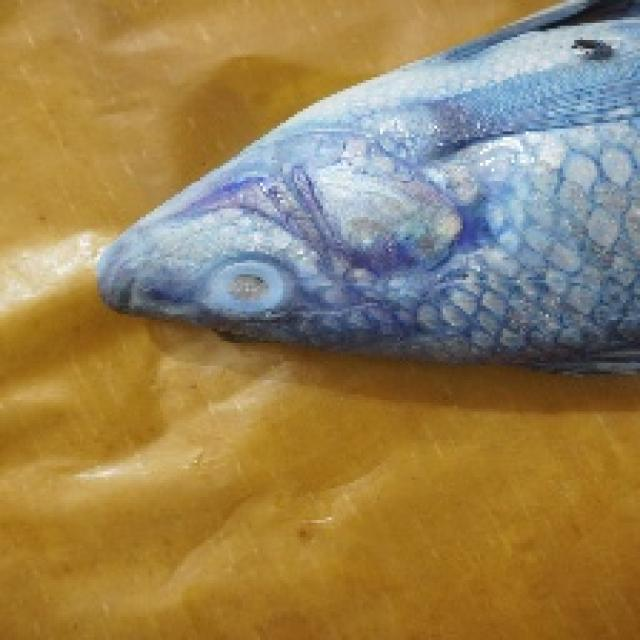Non-Fresh: (95, 28, 640, 376), (205, 256, 305, 329)
